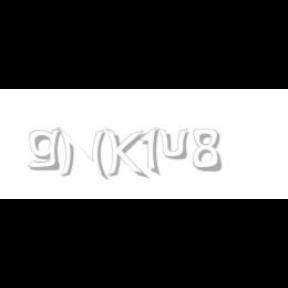1: (139, 128, 161, 176)
8: (192, 128, 222, 172)
K: (105, 128, 145, 180)
N: (57, 128, 106, 180)
g: (29, 128, 66, 171)
u: (158, 128, 192, 160)
